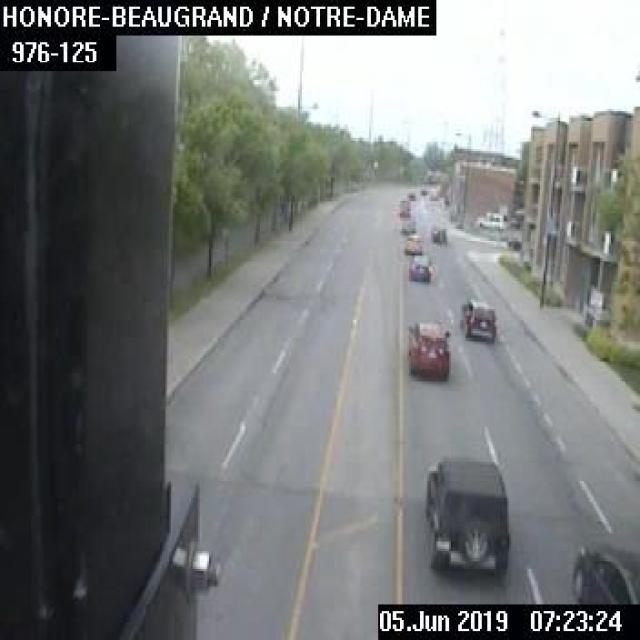vehicle: (423, 457, 507, 567), (567, 542, 638, 600), (406, 320, 450, 376), (456, 298, 494, 336), (406, 253, 432, 282), (474, 210, 505, 229), (402, 232, 422, 254), (429, 222, 446, 242), (400, 216, 416, 232)
